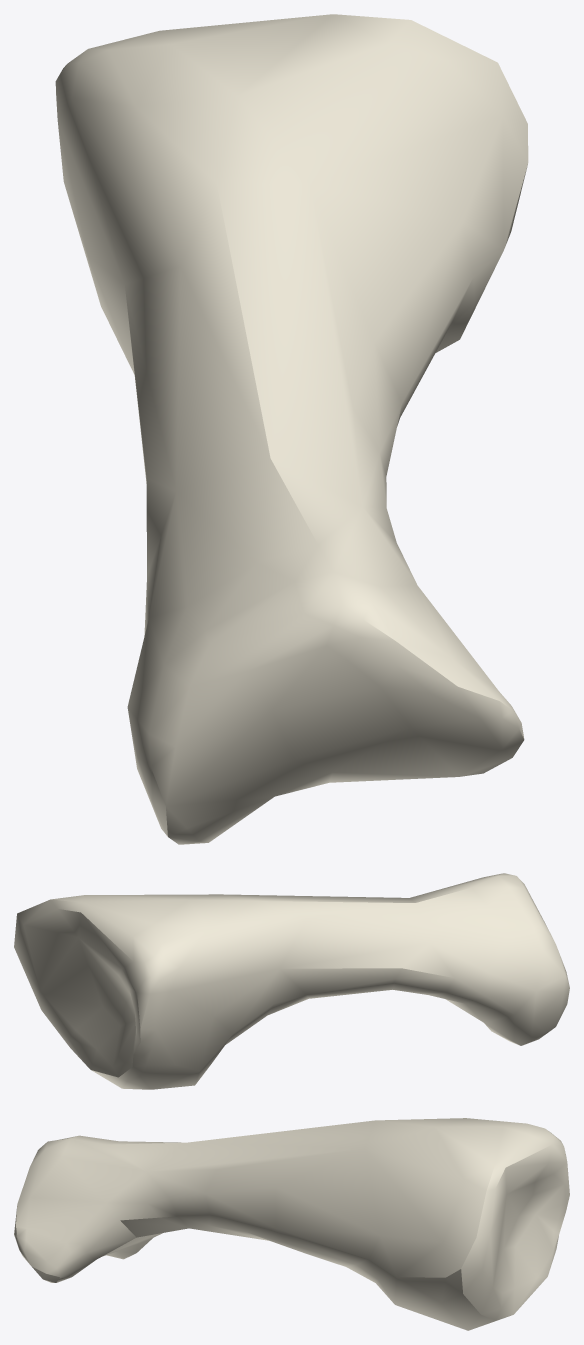
Rendered from fma32634_fj6415m.glb.
3 renders of one model, top to bottom at view 1: azimuth 30°, elevation 25°; view 2: azimuth 150°, elevation 25°; view 3: azimuth 270°, elevation 25°, orthographic. The views are drawn at different scales.
Parts seen in each view (by area): view 1: FMA32634_FJ6415M; view 2: FMA32634_FJ6415M; view 3: FMA32634_FJ6415M.
Boxes of the visible parts, left/top/right/bottom form: FMA32634_FJ6415M: left=55, top=14, right=528, bottom=844; FMA32634_FJ6415M: left=14, top=873, right=569, bottom=1089; FMA32634_FJ6415M: left=14, top=1118, right=569, bottom=1330.
Bounding box in the file's own units: 0.0221 × 0.0122 × 0.0282.
